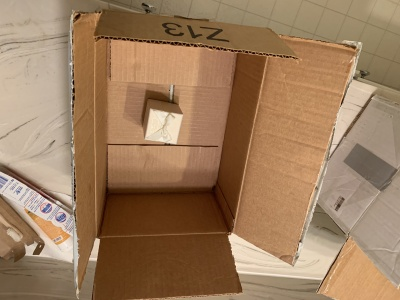innerbox: (96, 50, 259, 235)
outerbox: (70, 10, 314, 295)
product: (144, 100, 180, 143)
